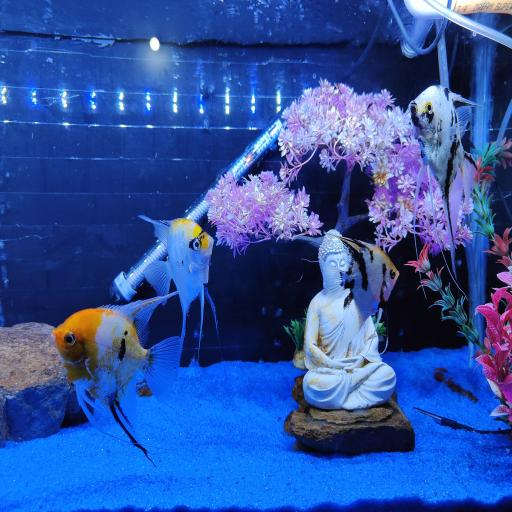Fish: (53, 292, 181, 460), (409, 85, 477, 277), (140, 216, 216, 346), (320, 235, 399, 332)
